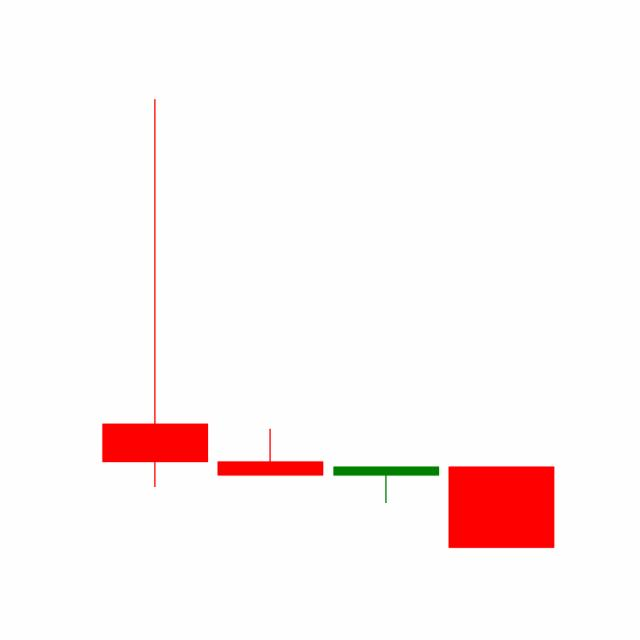Hammer: (328, 465, 444, 503)
